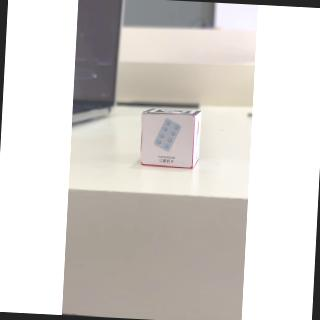Tablet: (142, 115, 195, 170)
